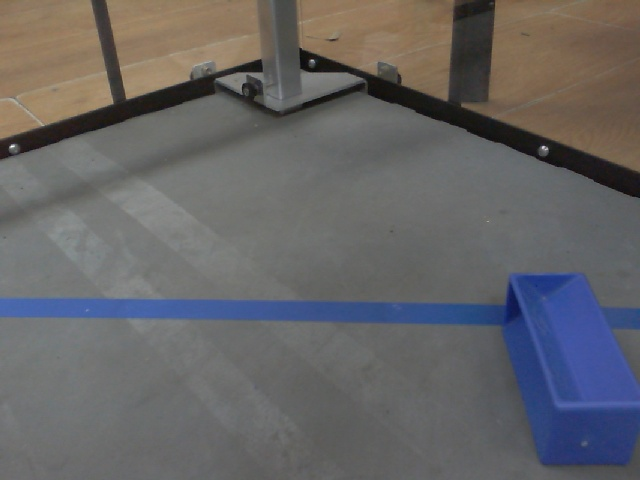BlueSample: (502, 266, 640, 476)
